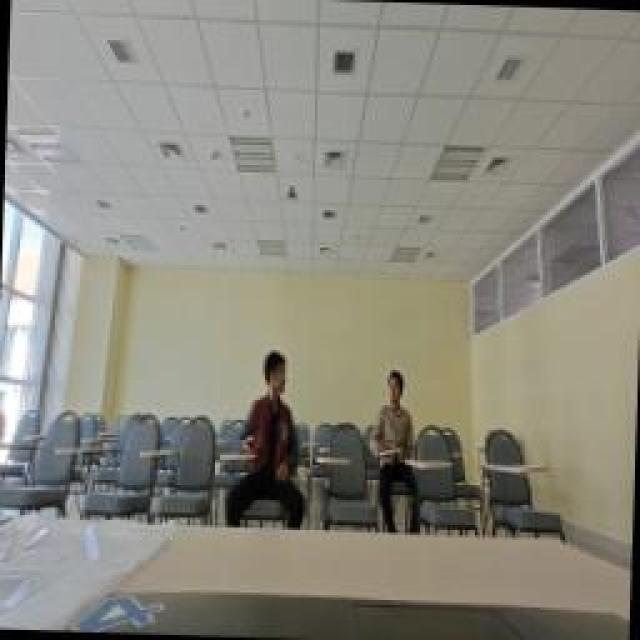study: (240, 350, 302, 458), (368, 370, 418, 458)
